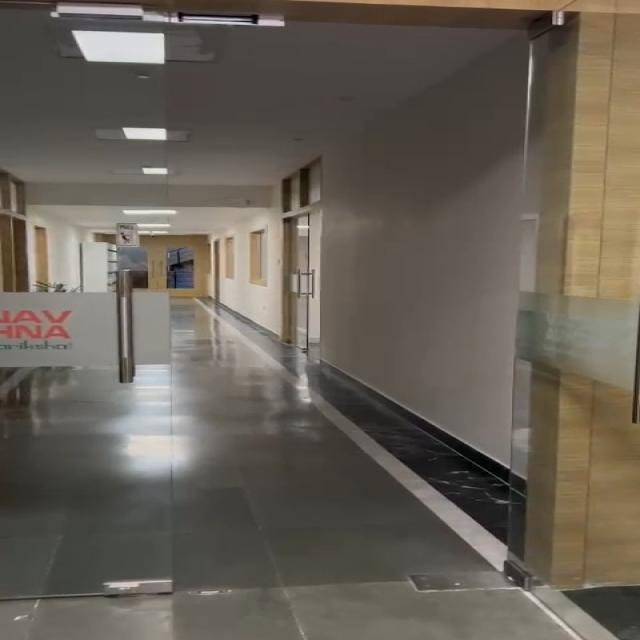door: (507, 5, 640, 610), (268, 147, 338, 363), (94, 201, 212, 304)
floor: (48, 382, 443, 640)
